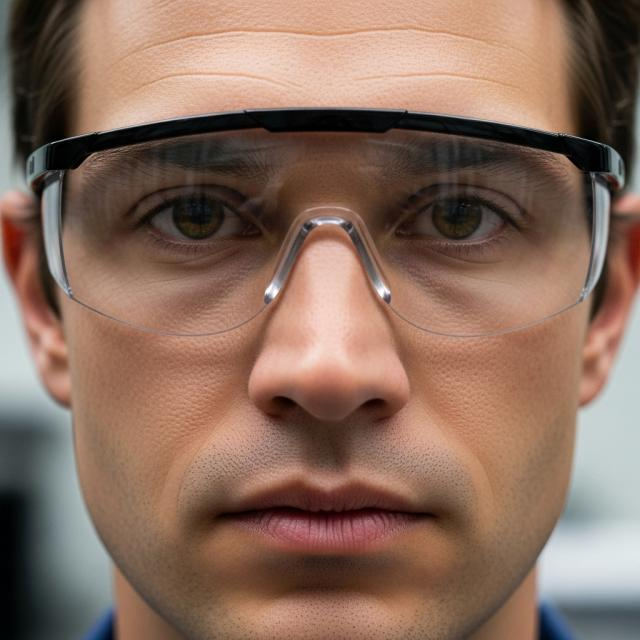oculos-epi: (27, 109, 623, 337)
